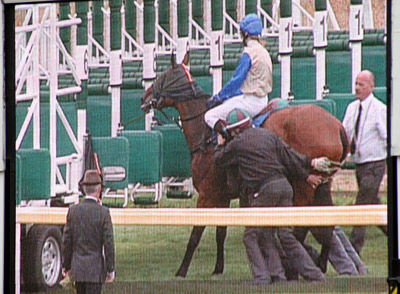person: (214, 108, 324, 285), (204, 13, 275, 143), (343, 70, 389, 257)
